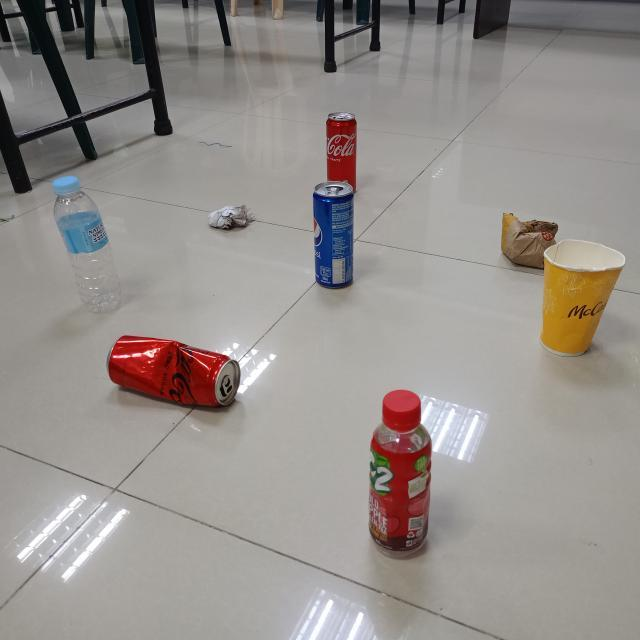recyclable waste: (359, 384, 439, 562), (534, 231, 630, 363), (100, 328, 247, 413), (47, 171, 126, 317), (306, 176, 359, 292), (493, 208, 564, 276), (322, 107, 362, 199), (203, 199, 259, 236)
